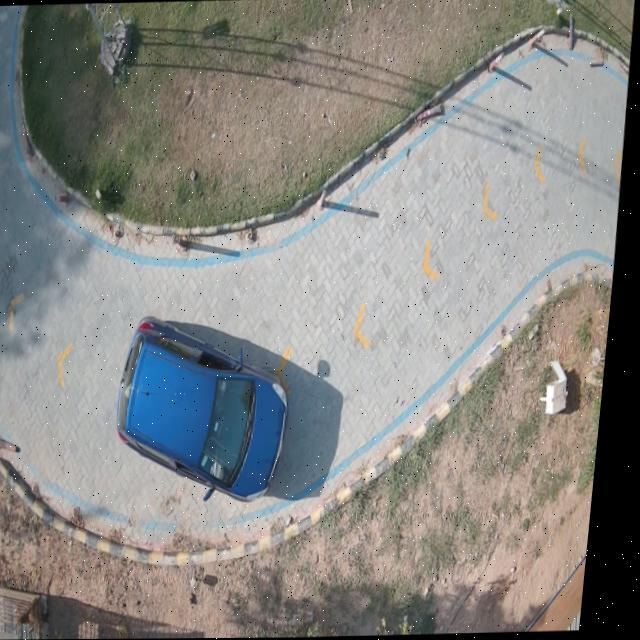car: (124, 316, 296, 503)
